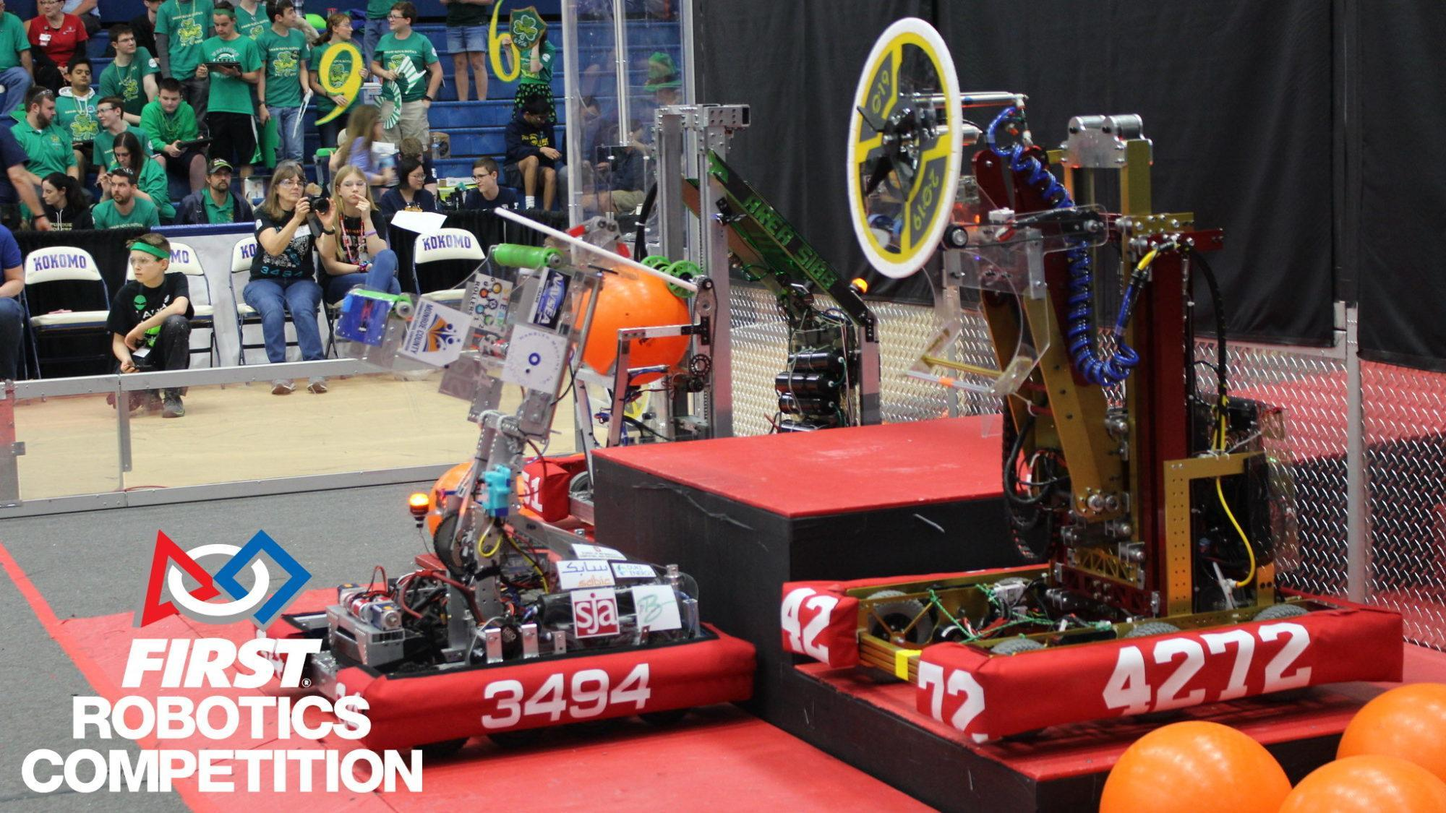robot: (778, 105, 1412, 749), (249, 235, 764, 760), (327, 216, 740, 535)
